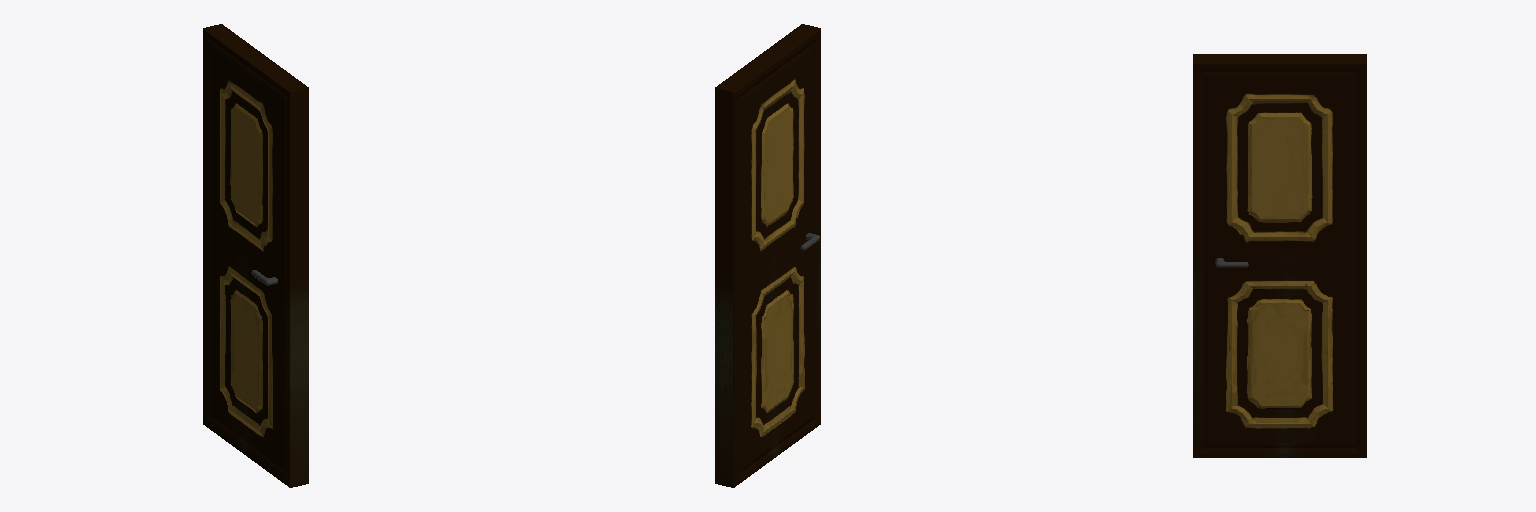
3 renders of one model, left to right at view 1: azimuth 30°, elevation 25°; view 2: azimuth 150°, elevation 25°; view 3: azimuth 270°, elevation 25°, orthographic.
Visible parts, largest first — view 1: door1_Cube.003; view 2: door1_Cube.003; view 3: door1_Cube.003.
Boxes of the visible parts, <box> form: door1_Cube.003: <box>203,24,308,487</box>; door1_Cube.003: <box>715,24,820,487</box>; door1_Cube.003: <box>1193,54,1366,457</box>.
Bounding box in the file's own units: 0.2251 × 2 × 0.8.
2 materials, 1 textured.